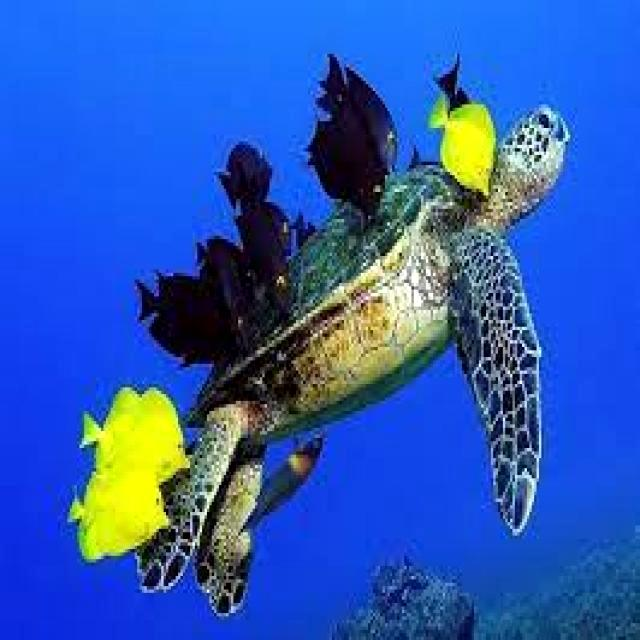Sea turtle: (141, 102, 577, 615)
